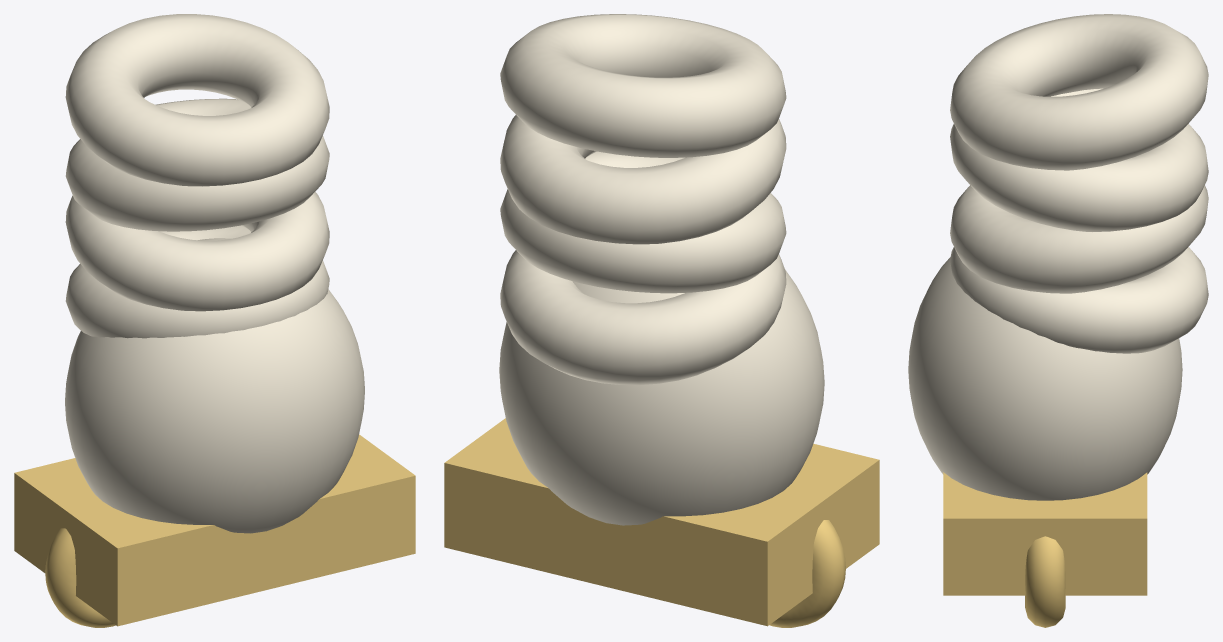
Rendered from sett_fist.glb.
The picture shows the model from 3 angles, left to right: view 1: azimuth 30°, elevation 25°; view 2: azimuth 150°, elevation 25°; view 3: azimuth 270°, elevation 25°; orthographic projection. The views are drawn at different scales.
Visible parts, largest first — view 1: sett_fist; view 2: sett_fist; view 3: sett_fist.
Part boxes in pixels (x1,y1,x2,y2): sett_fist: (14, 14, 415, 627); sett_fist: (444, 14, 879, 627); sett_fist: (908, 14, 1208, 627).
Bounding box in the file's own units: 0.224 × 0.3399 × 0.1769.
